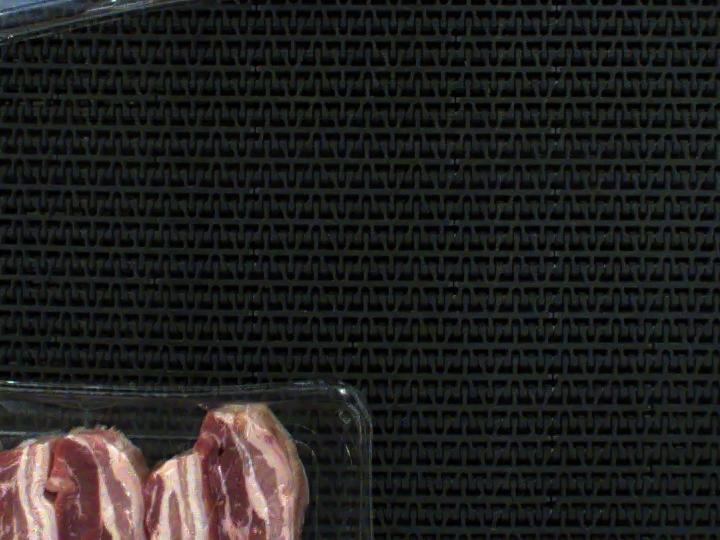packaging-error: (0, 374, 330, 443)
